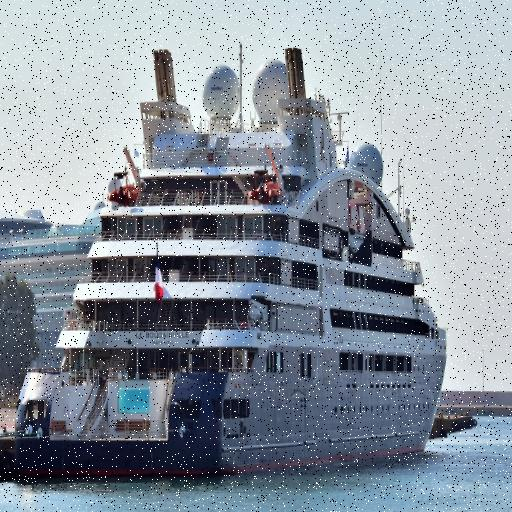cruises: (12, 37, 451, 490)
